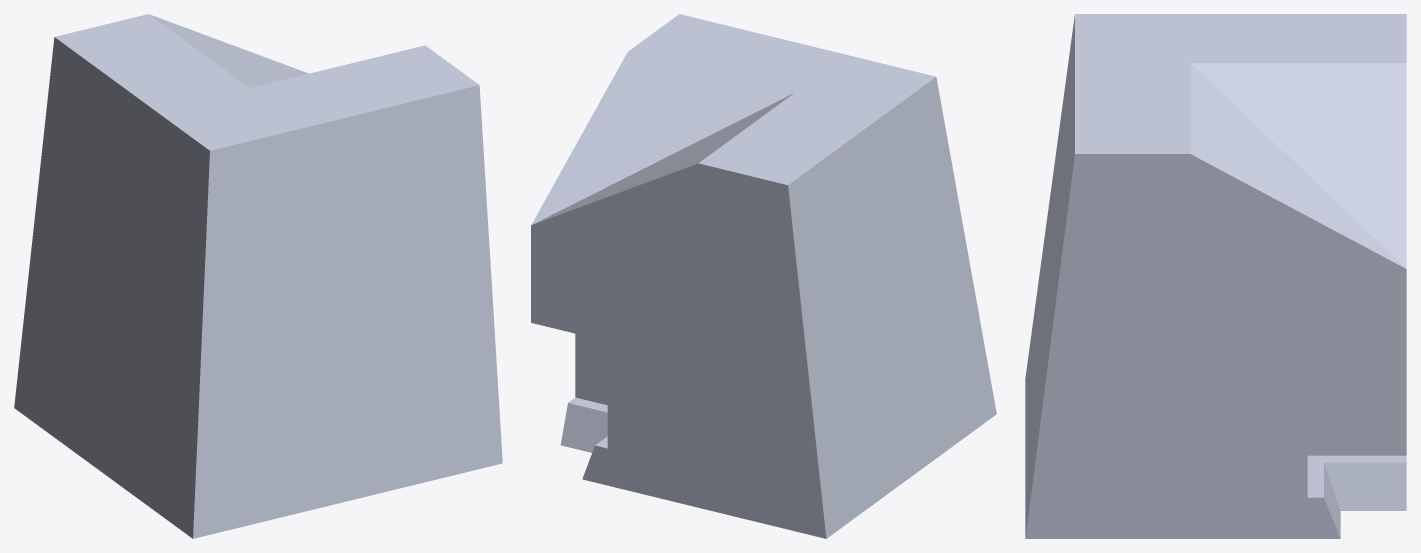
Rendered from spaceInterior_076.obj.
3 views of the same model, side by side, from view 1: azimuth 30°, elevation 25°; view 2: azimuth 150°, elevation 25°; view 3: azimuth 270°, elevation 25° (orthographic). The views are drawn at different scales.
Visible parts, largest first — view 1: Mesh1 Group1 Model; view 2: Mesh1 Group1 Model; view 3: Mesh1 Group1 Model.
Part boxes in pixels (<box>): Mesh1 Group1 Model: <box>14,14,502,538</box>; Mesh1 Group1 Model: <box>531,14,996,538</box>; Mesh1 Group1 Model: <box>1025,14,1406,538</box>.
Size of the model in its own units: 0.298 by 0.3321 by 0.298.
